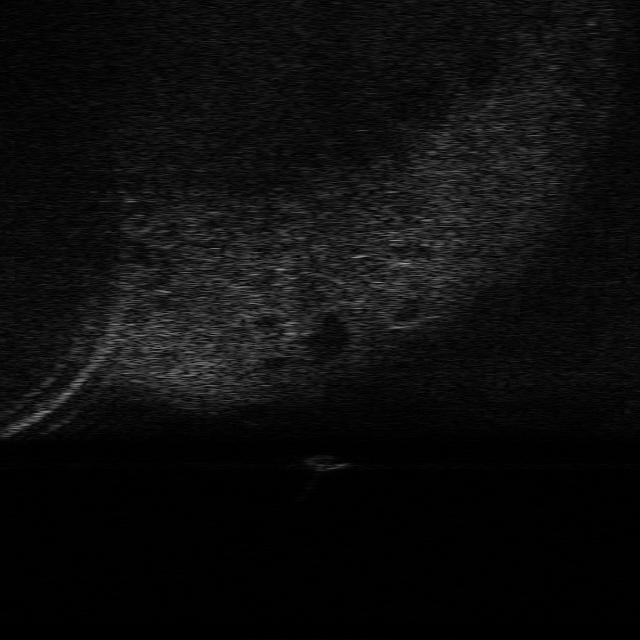cube: (305, 454, 351, 471)
